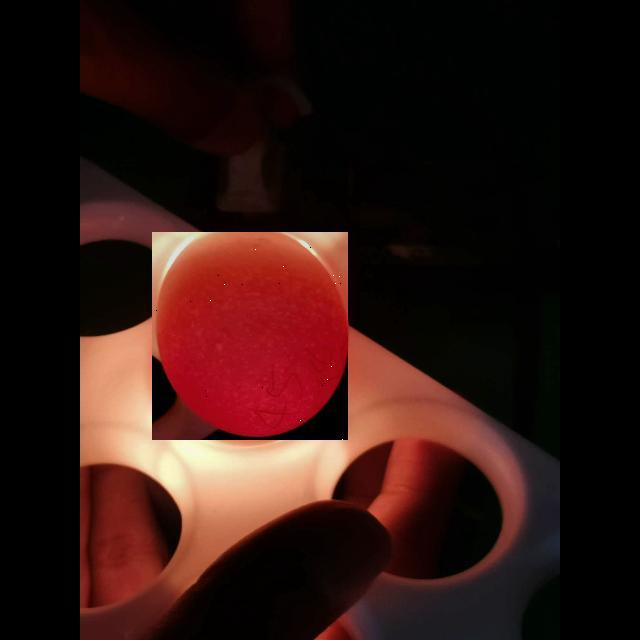Infertile: (152, 232, 348, 440)
